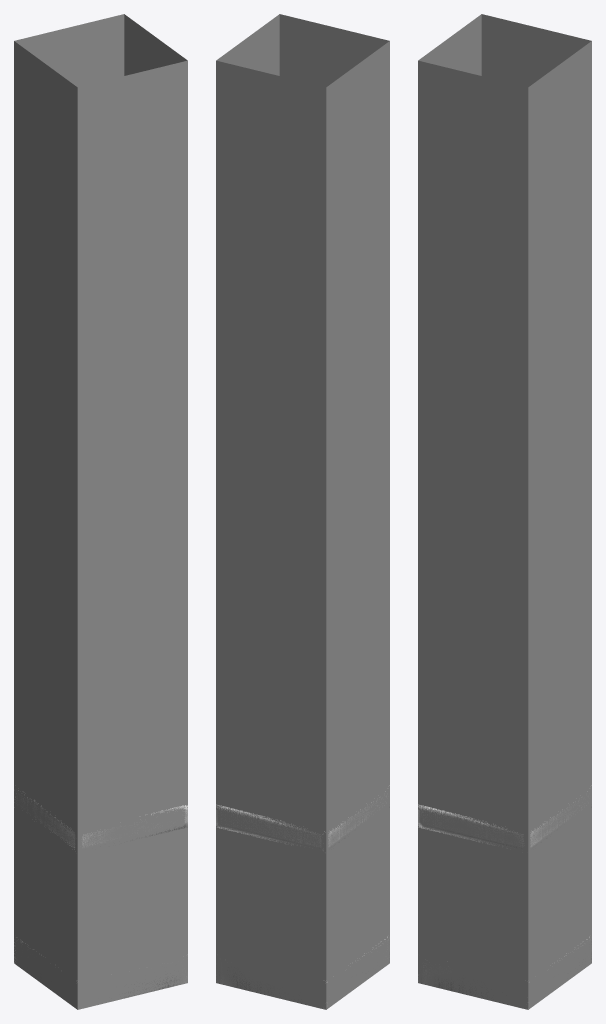
File: stonemonument06.fbx
The picture shows the model from 3 angles, left to right: view 1: azimuth 30°, elevation 25°; view 2: azimuth 150°, elevation 25°; view 3: azimuth 330°, elevation 25°; orthographic projection.
Visible parts, largest first — view 1: col_w, col_o, mdl_LOD0; view 2: col_w, col_o, mdl_LOD0; view 3: col_w, col_o, mdl_LOD0.
Part boxes in pixels (x1,y1,x2,y2): col_w: [14, 14, 187, 1009]; col_o: [14, 785, 187, 1009]; mdl_LOD0: [14, 790, 187, 1008]; col_w: [216, 14, 389, 1009]; col_o: [216, 785, 389, 1009]; mdl_LOD0: [216, 785, 389, 1008]; col_w: [418, 14, 591, 1009]; col_o: [418, 785, 591, 1009]; mdl_LOD0: [418, 785, 591, 1008].
Size of what is drawn, in the model's own units: 100 by 800 by 100.
